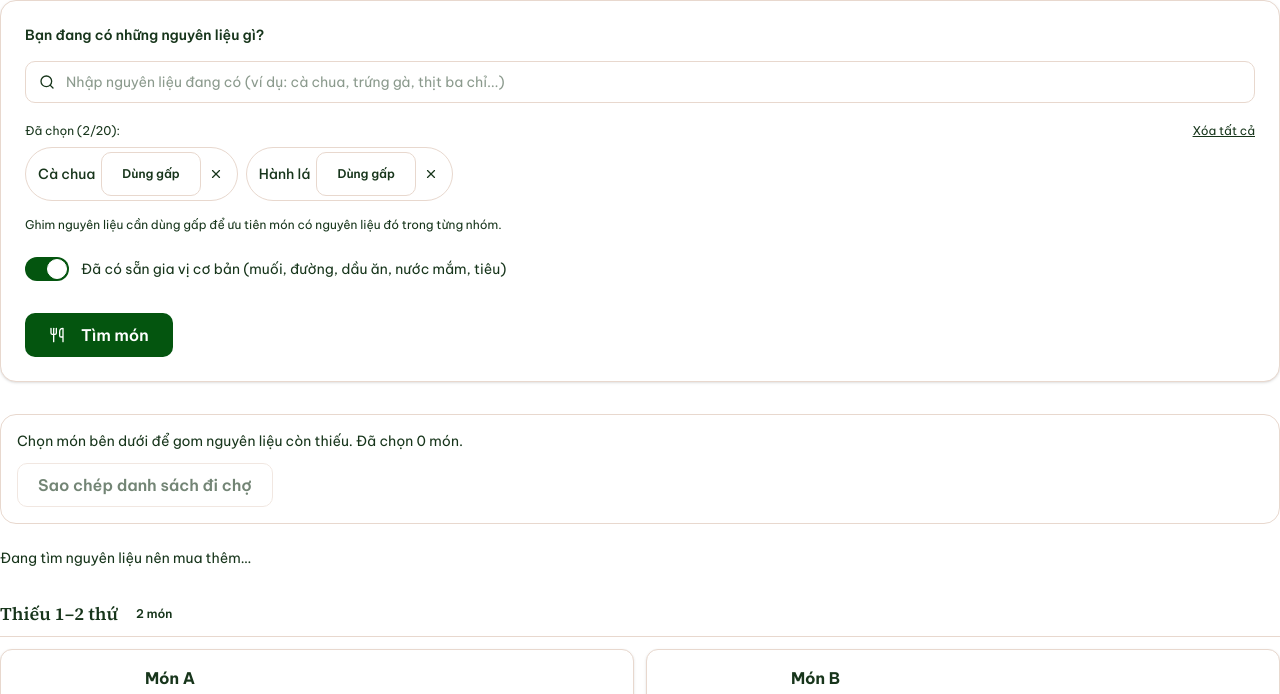
Test: FE11 in the real FE09 tab › pins using verified catalog membership, preserves groups/ratios and restores API order on unpin
Later steps or results of the test are not shown.
Click the button with aria-label "Ghim Hành lá" at (366, 174), box [316,152,416,196]
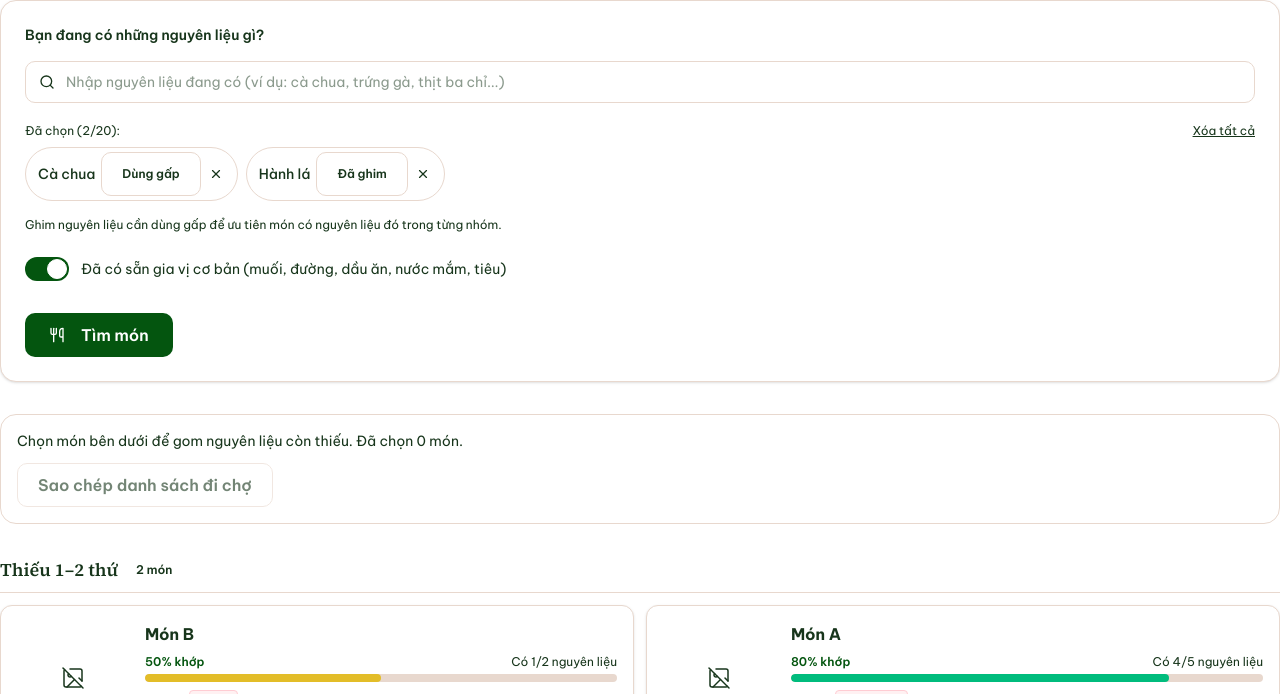
Expected: the progress indicator named "Mức khớp 80%" is shown, [791,674,1263,682]
Expected: the button with aria-label "Bỏ ghim Hành lá" is pressed, [316,152,408,196]
